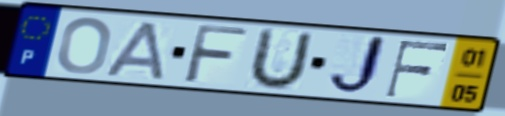A: (102, 19, 167, 82)
F: (180, 22, 252, 86), (381, 39, 452, 100)
J: (325, 33, 391, 99)
O: (55, 15, 115, 77)
U: (243, 25, 316, 92)
